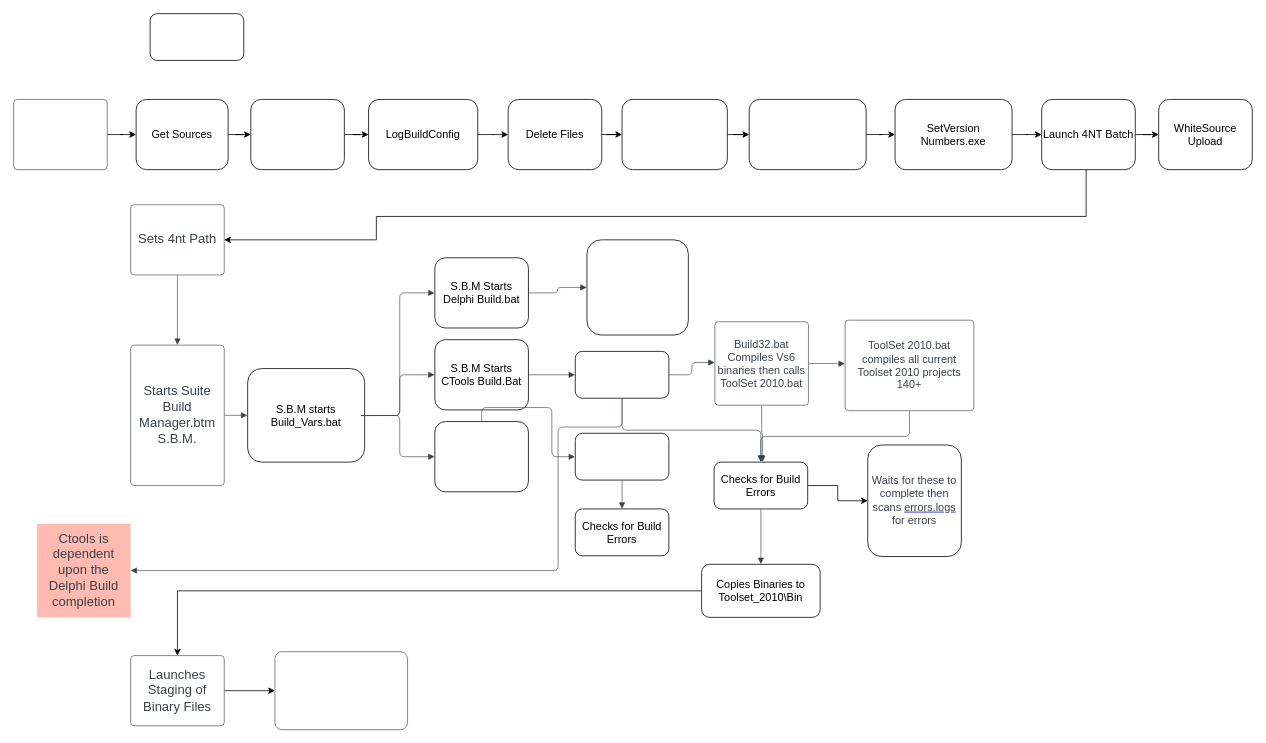
Image size: 1266x743. Some labels were removed from this diagram. The centre of each missing label's shape, as x and y in pixels:
Builds Delphi and places binaries in Toolset/Bin folder: point 637,287
Compiles FPL files: point 621,456
CTools starts Build32.bat: point 621,374
Increment Build Number: point 674,134
InstallShield Build: point 340,690
Nuget Restore: point 297,134
ProSuiteBuild Configurator.exe: point 807,134
S.B.M Starts FPL Build.bat: point 481,456
vNext Build Template: point 60,134
